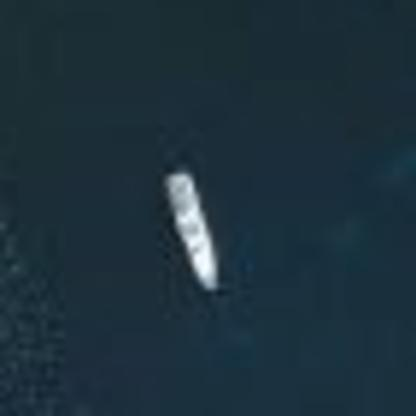ship: (146, 160, 247, 306)
